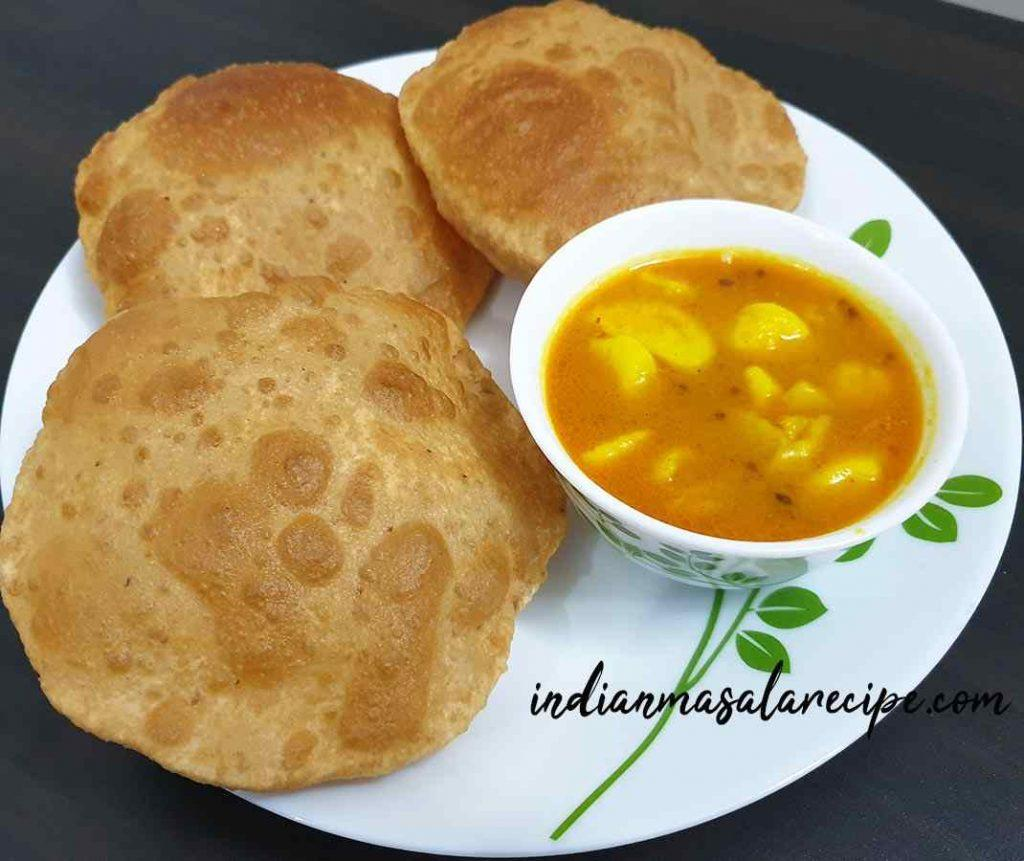puri: (10, 118, 522, 782)
